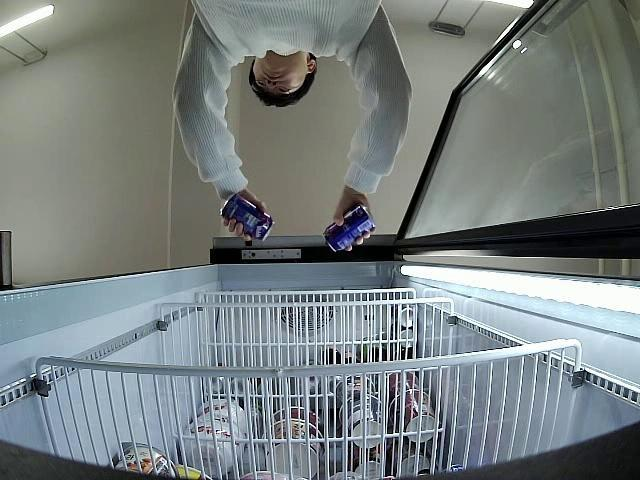14_welchsGrape: (220, 192, 274, 244), (325, 206, 374, 255)
